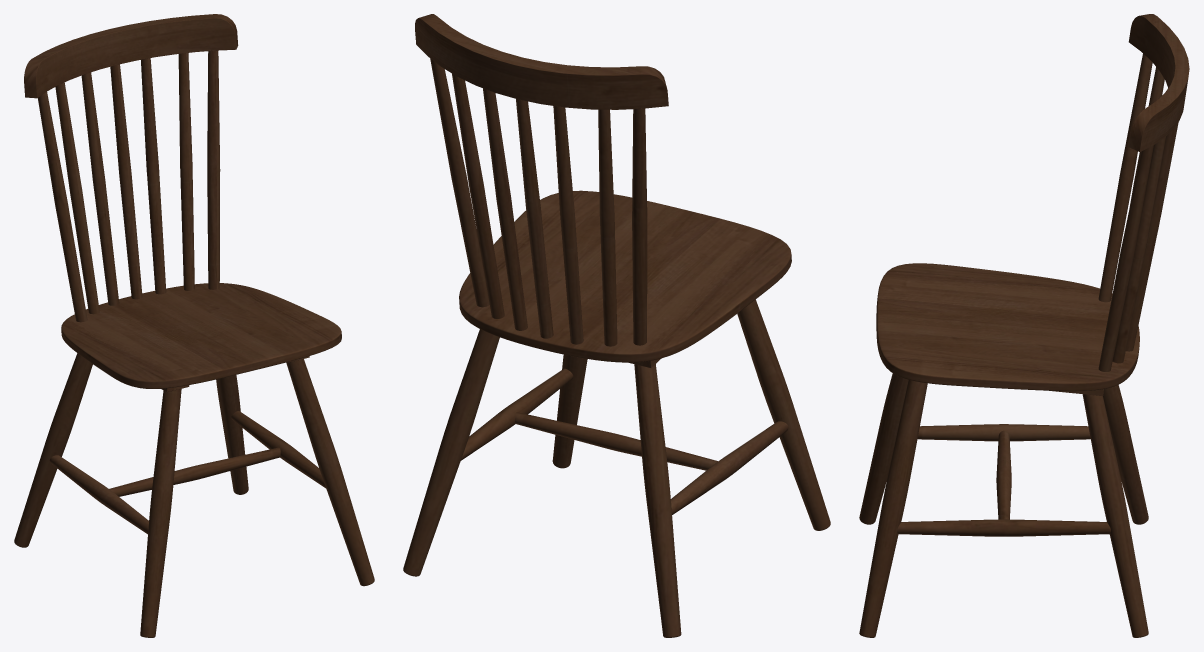
File: chair_12_03.001.fbx
3 views of the same model, side by side, from view 1: azimuth 30°, elevation 25°; view 2: azimuth 150°, elevation 25°; view 3: azimuth 270°, elevation 25° (orthographic). The views are drawn at different scales.
Visible parts, largest first — view 1: chair_12_03.001; view 2: chair_12_03.001; view 3: chair_12_03.001.
Boxes of the visible parts, bbox=[...] form: chair_12_03.001: bbox=[14, 14, 374, 637]; chair_12_03.001: bbox=[403, 14, 830, 637]; chair_12_03.001: bbox=[859, 14, 1189, 637].
Size of the model in its own units: 45.05 by 88.57 by 51.27.
1 material, 1 textured.
